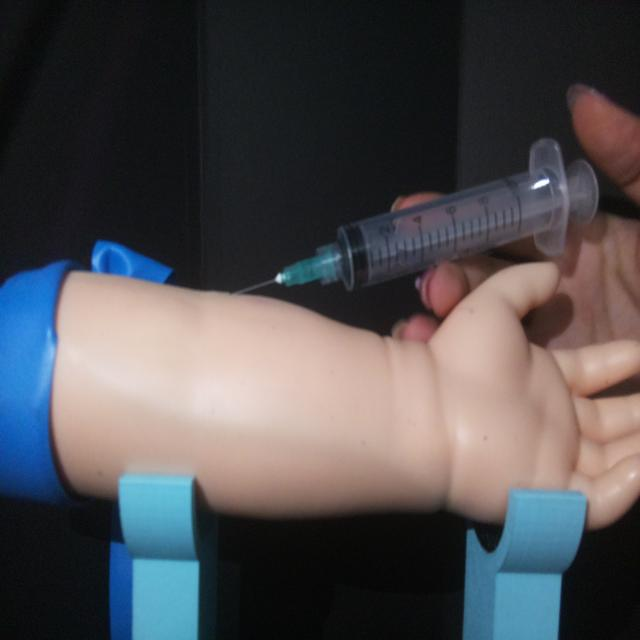23deg: (229, 133, 602, 301)
